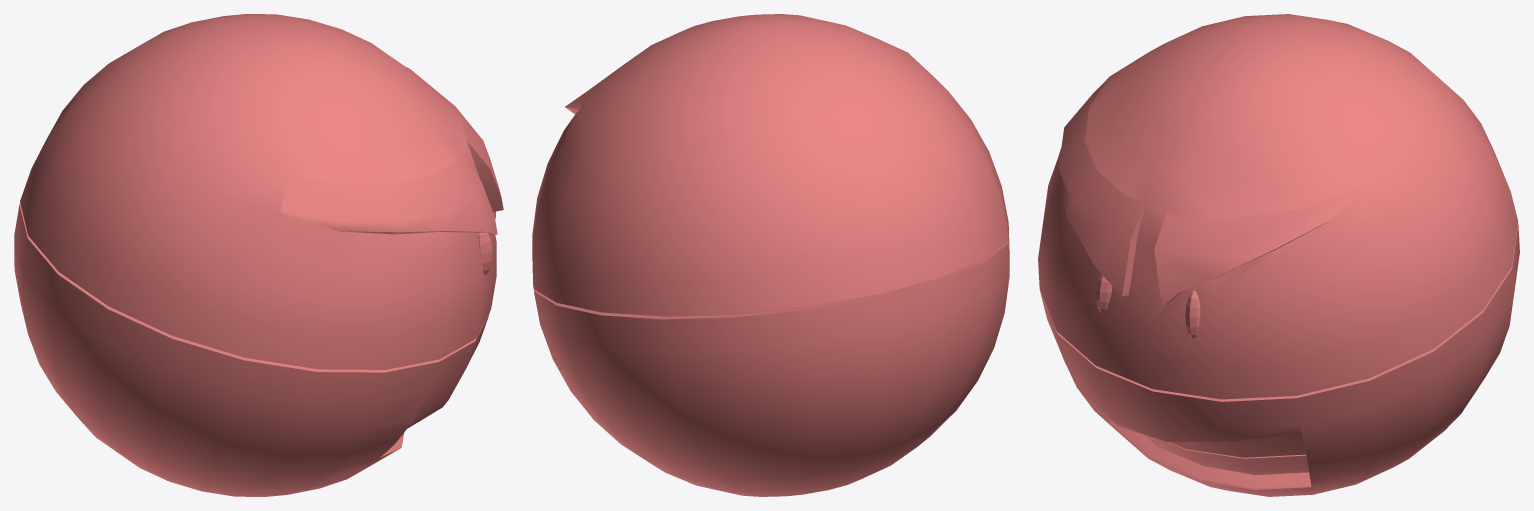
The model's file is electrode.glb.
3 renders of one model, left to right at view 1: azimuth 30°, elevation 25°; view 2: azimuth 150°, elevation 25°; view 3: azimuth 270°, elevation 25°, orthographic.
Visible parts, largest first — view 1: Node; view 2: Node; view 3: Node.
Boxes of the visible parts, x1,y1,x2,y2 form: Node: (14, 14, 503, 496); Node: (532, 14, 1009, 496); Node: (1038, 14, 1519, 496).
Bounding box in the file's own units: 11.74 × 11.73 × 11.72.
